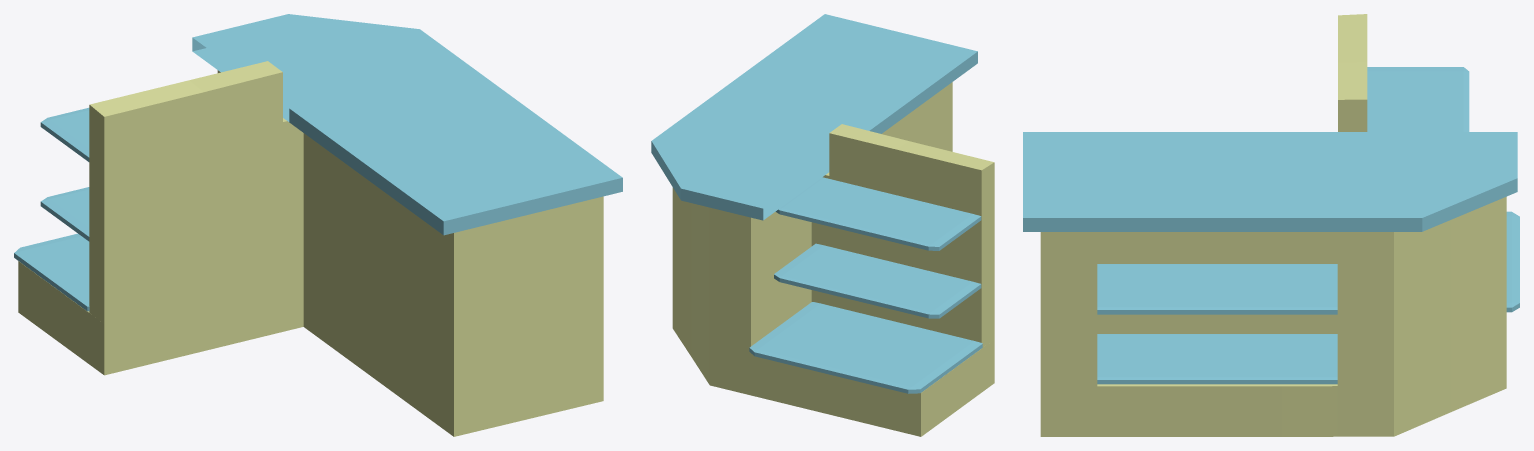
File: counter.fbx
3 views of the same model, side by side, from view 1: azimuth 30°, elevation 25°; view 2: azimuth 150°, elevation 25°; view 3: azimuth 270°, elevation 25° (orthographic). The views are drawn at different scales.
Visible parts, largest first — view 1: counter, countertop, shelves_counter2.001, shelves_counter2, shelves_counter1; view 2: counter, countertop, shelves_counter2.001, shelves_counter2, shelves_counter1; view 3: counter, countertop, shelves_counter, shelves_counter.001, shelves_counter1, shelves_counter2.001.
Boxes of the visible parts, x1=… form: counter: x1=18, y1=61, x2=603, y2=436; countertop: x1=192, y1=14, x2=622, y2=235; shelves_counter2.001: x1=14, y1=233, x2=89, y2=311; shelves_counter2: x1=40, y1=187, x2=89, y2=241; shelves_counter1: x1=40, y1=107, x2=89, y2=161; counter: x1=672, y1=82, x2=994, y2=436; countertop: x1=651, y1=14, x2=977, y2=220; shelves_counter2.001: x1=749, y1=302, x2=982, y2=393; shelves_counter2: x1=774, y1=243, x2=981, y2=318; shelves_counter1: x1=775, y1=177, x2=981, y2=250; counter: x1=1040, y1=14, x2=1506, y2=436; countertop: x1=1023, y1=132, x2=1517, y2=231; shelves_counter: x1=1097, y1=264, x2=1337, y2=314; shelves_counter.001: x1=1097, y1=334, x2=1337, y2=384; shelves_counter1: x1=1367, y1=67, x2=1469, y2=131; shelves_counter2.001: x1=1506, y1=211, x2=1519, y2=312.
Bounding box in the file's own units: 723 × 499 × 878.
